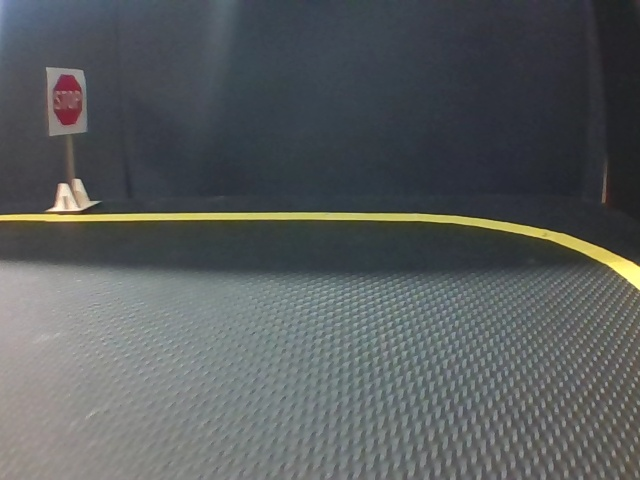stop: (47, 68, 88, 133)
